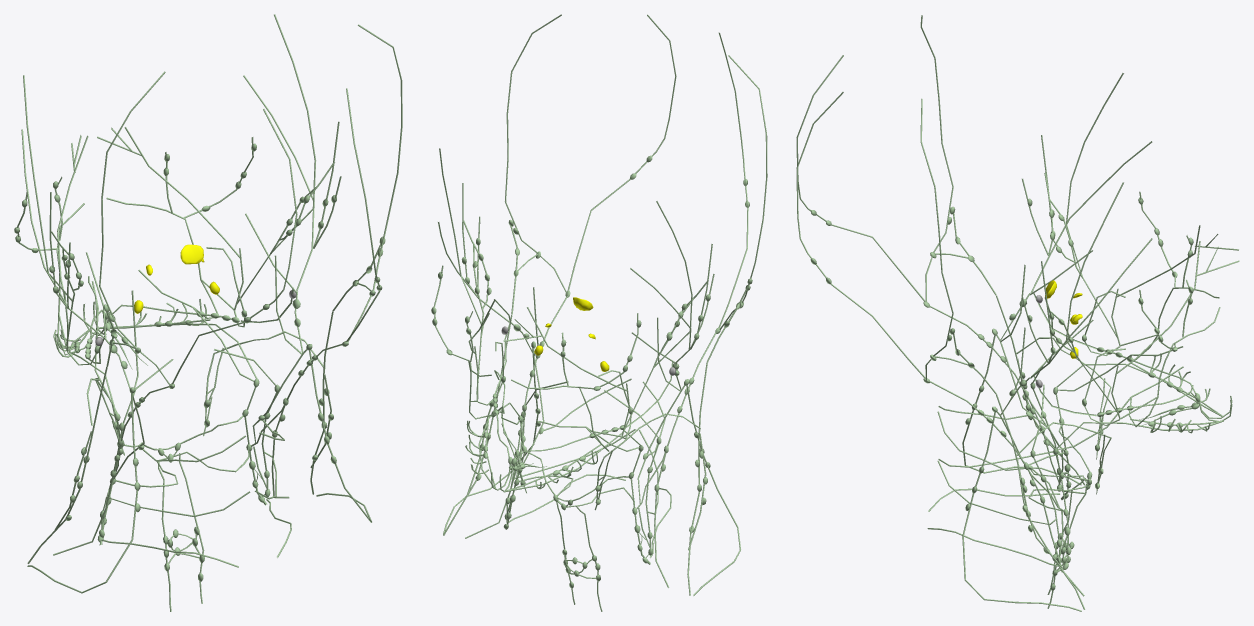
The model's file is Lymphatic.glb.
3 renders of one model, left to right at view 1: azimuth 30°, elevation 25°; view 2: azimuth 150°, elevation 25°; view 3: azimuth 270°, elevation 25°, orthographic. The views are drawn at different scales.
Parts seen in each view (by area): view 1: left_lymphatic_vessels_of_scalp, right_lymphatic_vessels_of_scalp, right_lymphatic_vessels_of_face, right_deep_lymphatic_vessels_of_neck, left_deep_lymphatic_vessels_of_neck, left_lymphatic_vessels_of_face, right_superficial_cervical_lymphatic_vessels, left_superficial_cervical_lymphatic_vessels, right_lymphatic_vessels_of_larynx, left_lymphatic_vessels_of_larynx, left_inferior_spinal_accessory_lymphatic_vessel; view 2: left_deep_lymphatic_vessels_of_neck, left_lymphatic_vessels_of_face, right_lymphatic_vessels_of_scalp, left_lymphatic_vessels_of_scalp, right_deep_lymphatic_vessels_of_neck, right_lymphatic_vessels_of_face, left_superficial_cervical_lymphatic_vessels, right_superficial_cervical_lymphatic_vessels, left_lymphatic_vessels_of_larynx, right_lymphatic_vessels_of_larynx, left_inferior_spinal_accessory_lymphatic_vessel; view 3: right_deep_lymphatic_vessels_of_neck, left_lymphatic_vessels_of_scalp, right_lymphatic_vessels_of_scalp, right_lymphatic_vessels_of_face, left_lymphatic_vessels_of_face, left_deep_lymphatic_vessels_of_neck, right_superficial_cervical_lymphatic_vessels, left_superficial_cervical_lymphatic_vessels, right_inferior_spinal_accessory_lymphatic_vessel.
Part boxes in pixels (x1,y1,x2,y2): left_lymphatic_vessels_of_scalp: (21,71,297,384); right_lymphatic_vessels_of_scalp: (243,14,402,341); right_lymphatic_vessels_of_face: (93,127,313,365); right_deep_lymphatic_vessels_of_neck: (99,255,342,557); left_deep_lymphatic_vessels_of_neck: (53,290,250,567); left_lymphatic_vessels_of_face: (17,135,132,369); right_superficial_cervical_lymphatic_vessels: (203,283,371,494); left_superficial_cervical_lymphatic_vessels: (27,342,170,563); right_lymphatic_vessels_of_larynx: (167,415,249,603); left_lymphatic_vessels_of_larynx: (115,442,178,611); left_inferior_spinal_accessory_lymphatic_vessel: (27,393,137,593); left_deep_lymphatic_vessels_of_neck: (504,317,716,587); left_lymphatic_vessels_of_face: (499,307,689,492); right_lymphatic_vessels_of_scalp: (438,14,676,323); left_lymphatic_vessels_of_scalp: (630,32,767,367); right_deep_lymphatic_vessels_of_neck: (465,287,635,538); right_lymphatic_vessels_of_face: (433,265,533,490); left_superficial_cervical_lymphatic_vessels: (594,304,741,595); right_superficial_cervical_lymphatic_vessels: (443,254,566,535); left_lymphatic_vessels_of_larynx: (564,476,634,611); right_lymphatic_vessels_of_larynx: (519,451,575,604); left_inferior_spinal_accessory_lymphatic_vessel: (686,385,740,595); right_deep_lymphatic_vessels_of_neck: (927,327,1223,596); left_lymphatic_vessels_of_scalp: (796,15,1152,302); right_lymphatic_vessels_of_scalp: (796,92,1152,378); right_lymphatic_vessels_of_face: (1033,241,1239,433); left_lymphatic_vessels_of_face: (1033,191,1238,419); left_deep_lymphatic_vessels_of_neck: (928,264,1222,511); right_superficial_cervical_lymphatic_vessels: (925,356,1111,609); left_superficial_cervical_lymphatic_vessels: (925,253,1111,485); right_inferior_spinal_accessory_lymphatic_vessel: (962,412,1081,611).
Size of the model in its own units: 0.0413 by 0.0776 by 0.0569.
Materials: 3 (1 with a texture image).
